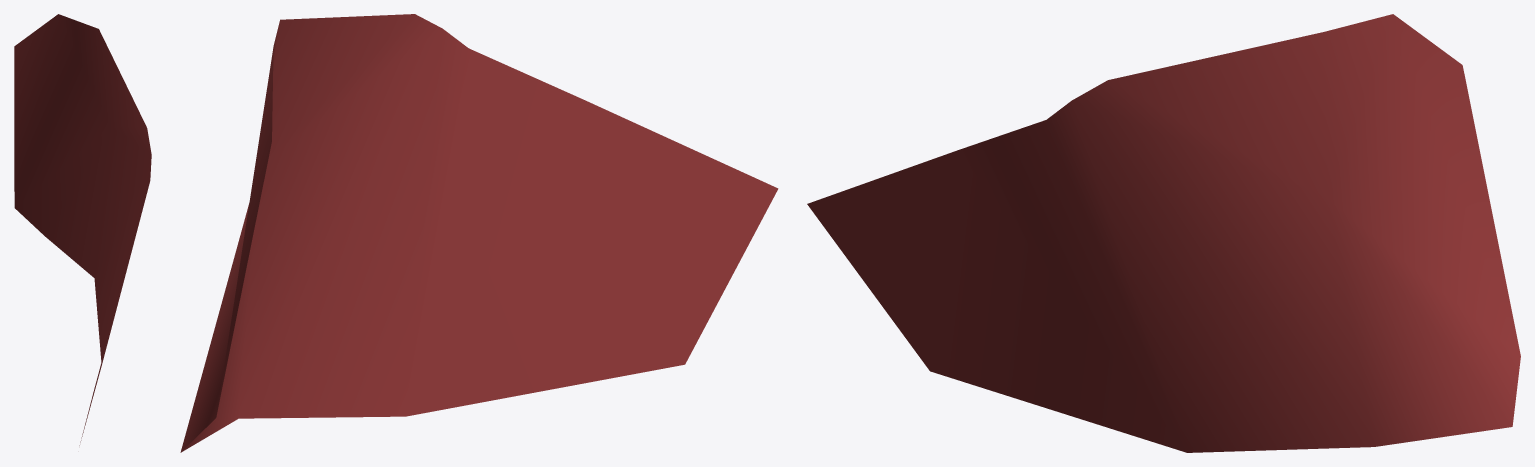
The model's file is plantar-interossei-muscles-el.glb.
3 renders of one model, left to right at view 1: azimuth 30°, elevation 25°; view 2: azimuth 150°, elevation 25°; view 3: azimuth 270°, elevation 25°, orthographic. The views are drawn at different scales.
Visible parts, largest first — view 1: Plantar interossei muscles.el; view 2: Plantar interossei muscles.el; view 3: Plantar interossei muscles.el.
Boxes of the visible parts, <box> form: Plantar interossei muscles.el: <box>14,14,151,445</box>; Plantar interossei muscles.el: <box>180,14,778,452</box>; Plantar interossei muscles.el: <box>807,14,1520,452</box>.
Size of the model in its own units: 0.0015 by 0.0023 by 0.00325.
